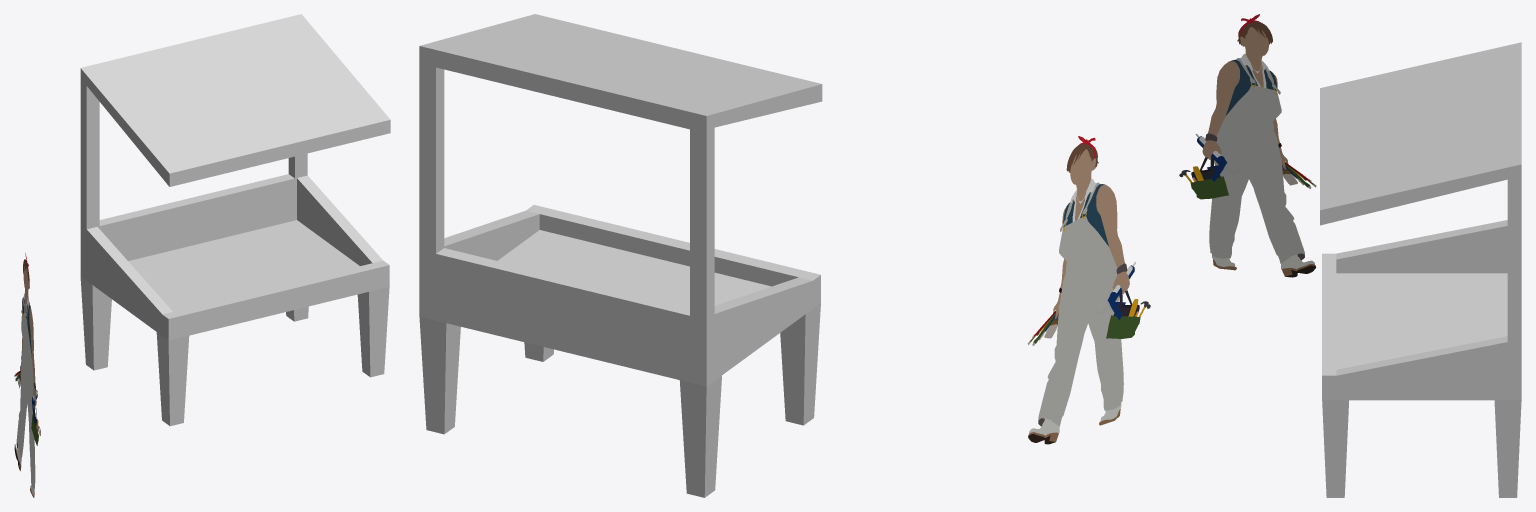
The model's file is fruitStand1.dae.
3 renders of one model, left to right at view 1: azimuth 30°, elevation 25°; view 2: azimuth 150°, elevation 25°; view 3: azimuth 270°, elevation 25°, orthographic. The views are drawn at different scales.
Visible parts, largest first — view 1: SketchUp, group_0, group_3, group_2, group_4, Lisanne; view 2: group_0, SketchUp, Lisanne (×3), group_4, group_1, group_3; view 3: group_0, SketchUp, Lisanne (×5), group_1, group_2.
Boxes of the visible parts, x1,y1,x2,y2 form: SketchUp: (80, 14, 390, 229); group_0: (80, 174, 389, 340); group_3: (156, 332, 189, 426); group_2: (357, 287, 389, 377); group_4: (80, 276, 111, 370); Lisanne: (16, 312, 35, 489); group_0: (419, 205, 820, 386); SketchUp: (419, 14, 822, 319); Lisanne (×3): (1038, 149, 1125, 426); group_4: (679, 375, 721, 497); group_1: (419, 316, 460, 434); group_3: (780, 303, 820, 425); group_0: (1322, 220, 1521, 400); SketchUp: (1320, 42, 1521, 341); Lisanne (×5): (1190, 27, 1304, 263); group_1: (1494, 400, 1521, 497); group_2: (1322, 400, 1348, 497).
Size of the model in its own units: 125 by 79.7 by 86.22.
